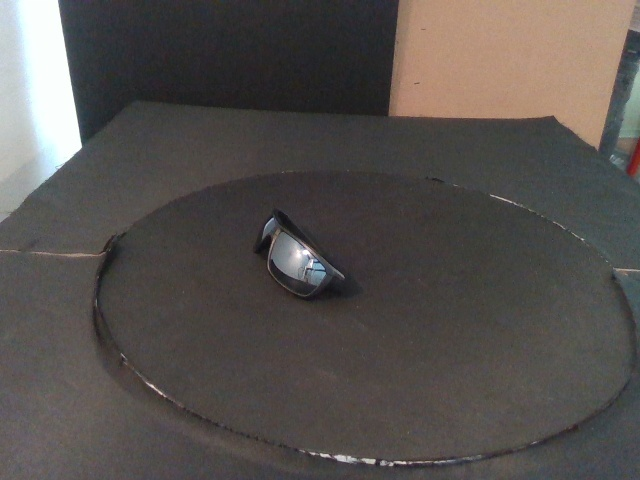glasses: (251, 207, 345, 300)
